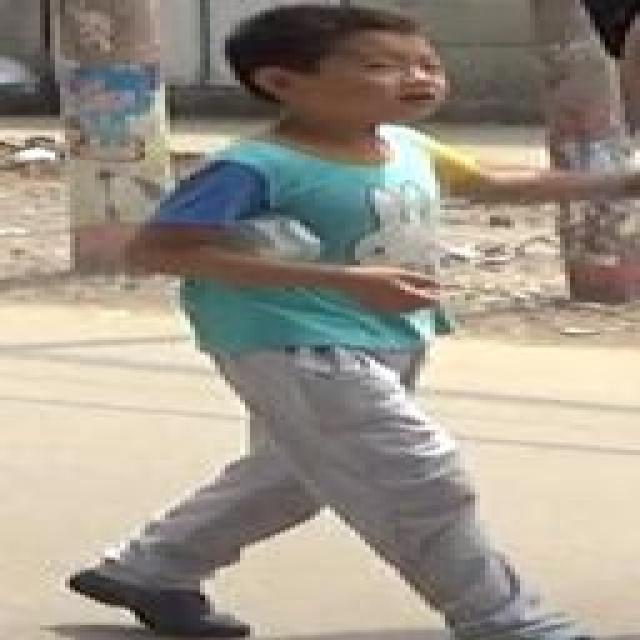child: (65, 1, 627, 640)
